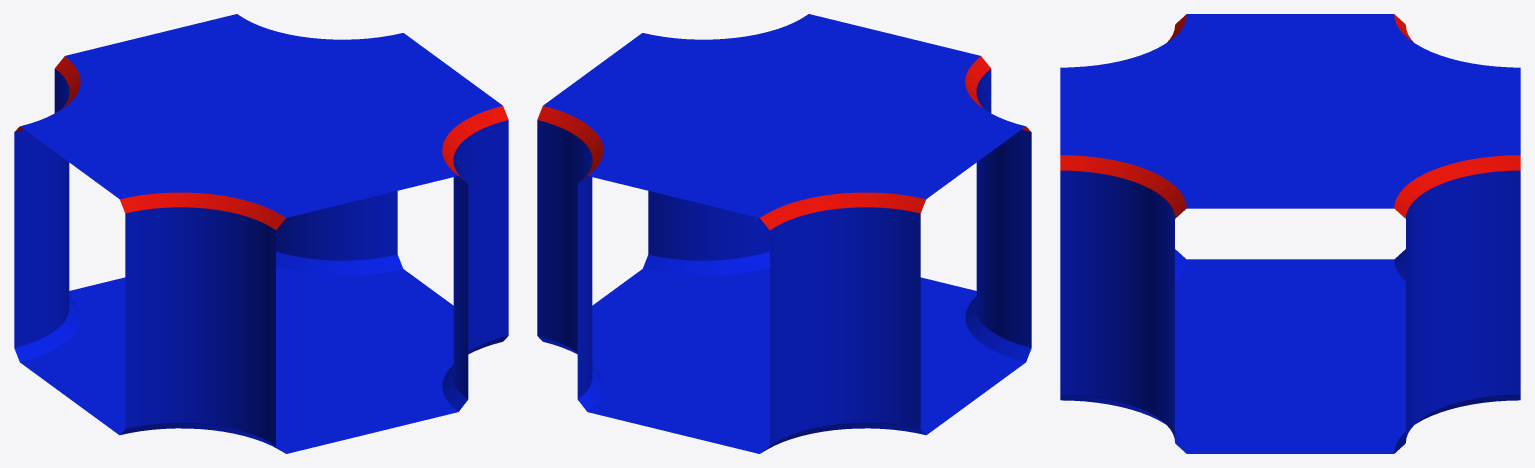
3 views of the same model, side by side, from view 1: azimuth 30°, elevation 25°; view 2: azimuth 150°, elevation 25°; view 3: azimuth 270°, elevation 25° (orthographic). The views are drawn at different scales.
Parts seen in each view (by area): view 1: X; view 2: X; view 3: X.
Part boxes in pixels (box(x1,y1,x2,y2)): X: box(14, 14, 508, 453); X: box(537, 14, 1031, 453); X: box(1060, 14, 1520, 453).
Size of the model in its own units: 400 by 235 by 400.
